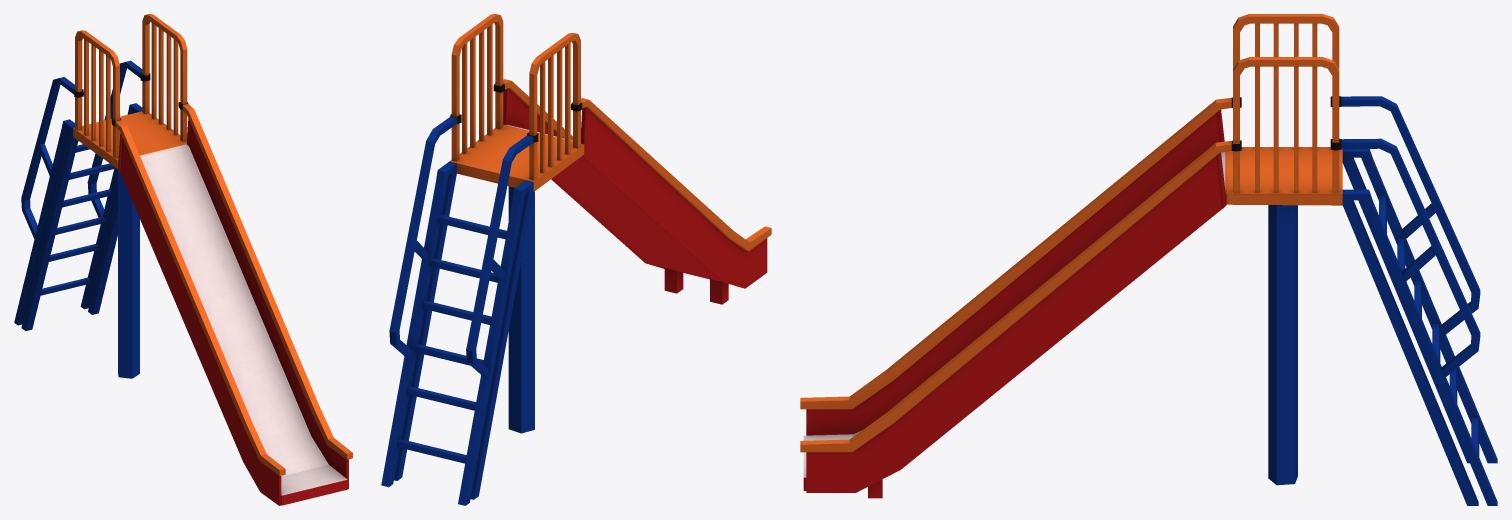
Rendered from Slide.obj.
3 renders of one model, left to right at view 1: azimuth 30°, elevation 25°; view 2: azimuth 150°, elevation 25°; view 3: azimuth 270°, elevation 25°, orthographic. The views are drawn at different scales.
Parts seen in each view (by area): view 1: Slide_Mesh; view 2: Slide_Mesh; view 3: Slide_Mesh.
Part boxes in pixels (left/top/right/bottom): Slide_Mesh: left=14, top=14, right=352, bottom=505; Slide_Mesh: left=381, top=14, right=771, bottom=505; Slide_Mesh: left=800, top=14, right=1497, bottom=505.
Bounding box in the file's own units: 1.11 × 4.72 × 6.69.
Materials: 1 (1 with a texture image).
